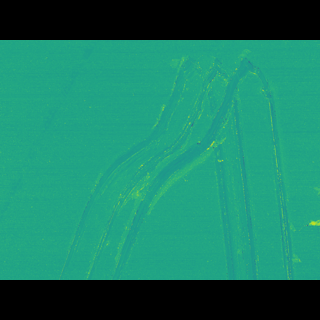Loch: (57, 77, 299, 251), (0, 69, 102, 212)
